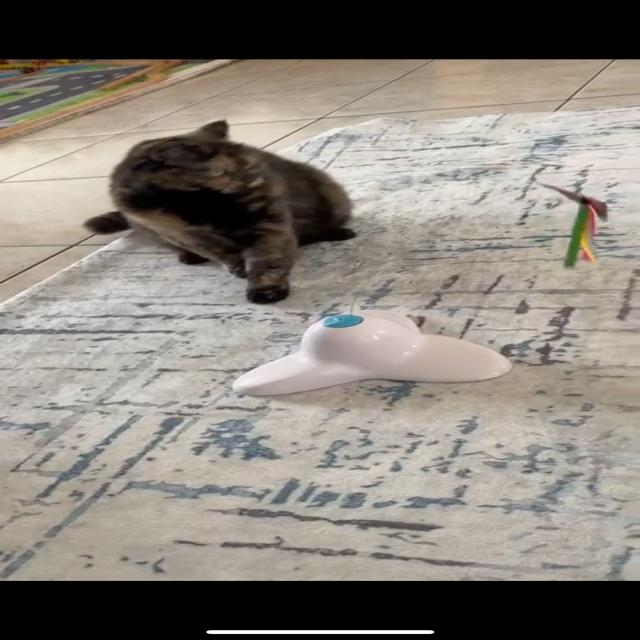authorized: (83, 119, 357, 304)
